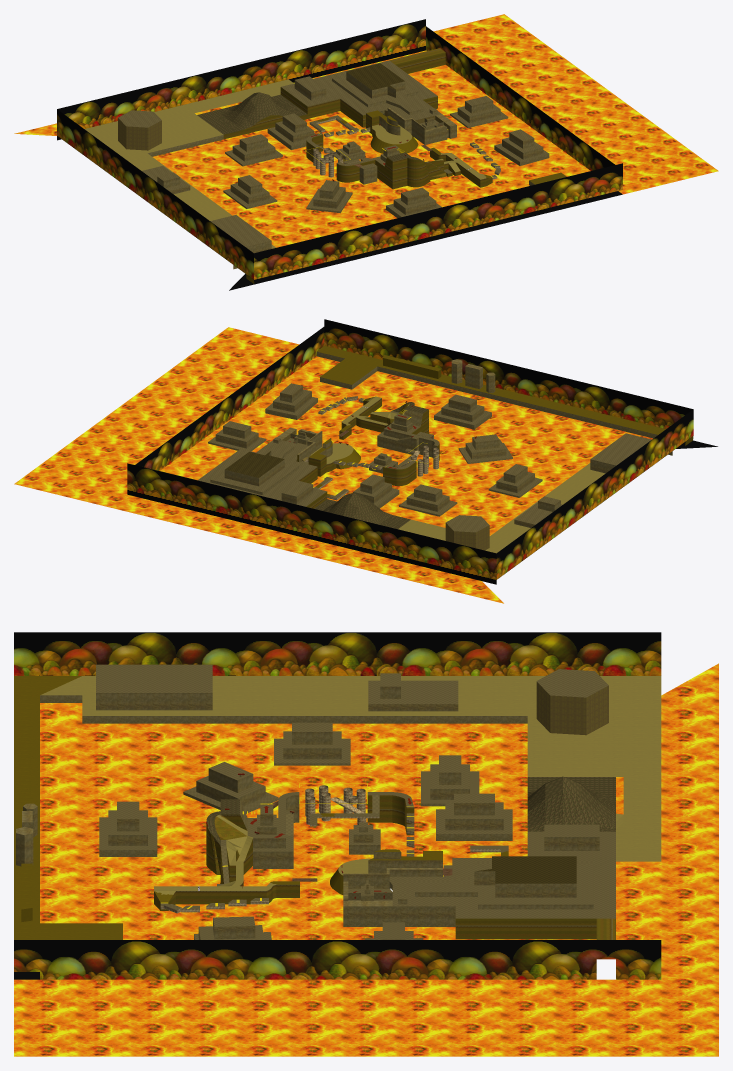
The picture shows the model from 3 angles, top to bottom: view 1: azimuth 30°, elevation 25°; view 2: azimuth 150°, elevation 25°; view 3: azimuth 270°, elevation 25°; orthographic projection. The views are drawn at different scales.
Visible parts, largest first — view 1: Strobenz_Main-Material2, Strobenz_Main-Material1, Strobenz_Main-Road1, Strobenz_Main-Piramide, Strobenz_Main-arena, Strobenz_Main-paredarena, Strobenz_Main-stickysand, Strobenz_Main-Default_Material, Strobenz_Main-wall2, Strobenz_Main-offoad, Strobenz_Main-walle, Strobenz_Main-00_2; view 2: Strobenz_Main-Material2, Strobenz_Main-Material1, Strobenz_Main-Piramide, Strobenz_Main-Road1, Strobenz_Main-offoad, Strobenz_Main-arena, Strobenz_Main-paredarena, Strobenz_Main-stickysand, Strobenz_Main-00_2, Strobenz_Main-wall2, Strobenz_Main-walle; view 3: Strobenz_Main-Material2, Strobenz_Main-Material1, Strobenz_Main-Road1, Strobenz_Main-arena, Strobenz_Main-Piramide, Strobenz_Main-offoad, Strobenz_Main-paredarena, Strobenz_Main-stickysand, Strobenz_Main-wall2, Strobenz_Main-00_2, Strobenz_Main-walle.
Part boxes in pixels (x1,y1,x2,y2): Strobenz_Main-Material2: (14,14,718,247); Strobenz_Main-Material1: (57,19,622,279); Strobenz_Main-Road1: (118,60,548,246); Strobenz_Main-Piramide: (148,72,549,269); Strobenz_Main-arena: (84,79,486,248); Strobenz_Main-paredarena: (223,48,492,189); Strobenz_Main-stickysand: (197,92,422,160); Strobenz_Main-Default_Material: (229,191,622,290); Strobenz_Main-wall2: (118,110,448,150); Strobenz_Main-offoad: (246,110,566,283); Strobenz_Main-walle: (309,118,500,179); Strobenz_Main-00_2: (341,63,404,157); Strobenz_Main-Material2: (14,327,652,603); Strobenz_Main-Material1: (127,319,693,584); Strobenz_Main-Piramide: (208,351,672,527); Strobenz_Main-Road1: (198,383,651,532); Strobenz_Main-offoad: (309,346,693,496); Strobenz_Main-arena: (311,396,605,553); Strobenz_Main-paredarena: (147,398,439,508); Strobenz_Main-stickysand: (314,402,428,529); Strobenz_Main-00_2: (225,451,375,477); Strobenz_Main-wall2: (282,430,489,550); Strobenz_Main-walle: (304,396,438,500); Strobenz_Main-Material2: (14,663,718,1056); Strobenz_Main-Material1: (14,632,661,979); Strobenz_Main-Road1: (96,664,615,939); Strobenz_Main-arena: (40,676,661,894); Strobenz_Main-Piramide: (16,686,599,939); Strobenz_Main-offoad: (14,676,508,939); Strobenz_Main-paredarena: (154,795,615,939); Strobenz_Main-stickysand: (206,776,615,845); Strobenz_Main-wall2: (536,682,608,735); Strobenz_Main-00_2: (476,856,576,883); Strobenz_Main-walle: (160,785,500,913).
Size of the model in its own units: 394400 by 26165 by 298725.
Materials: 19 (19 with a texture image).
